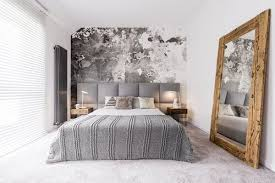Bed: (55, 95, 191, 161)
Lamp: (73, 88, 93, 109)
